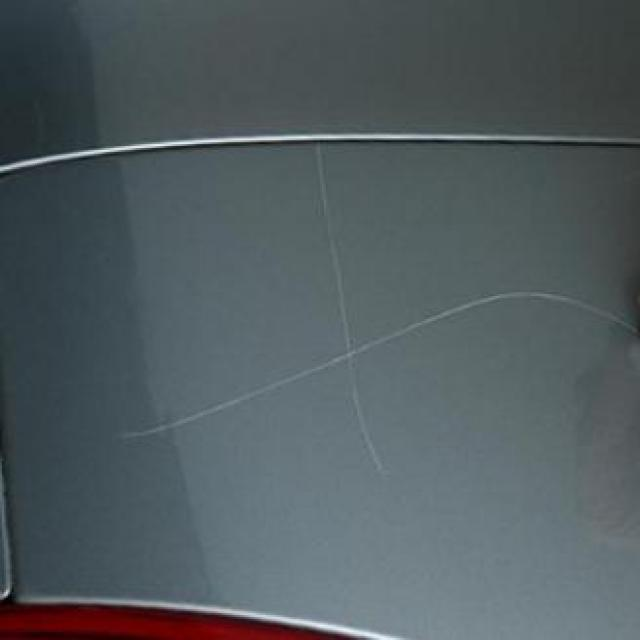scratch: (100, 267, 634, 450), (300, 119, 402, 481)
